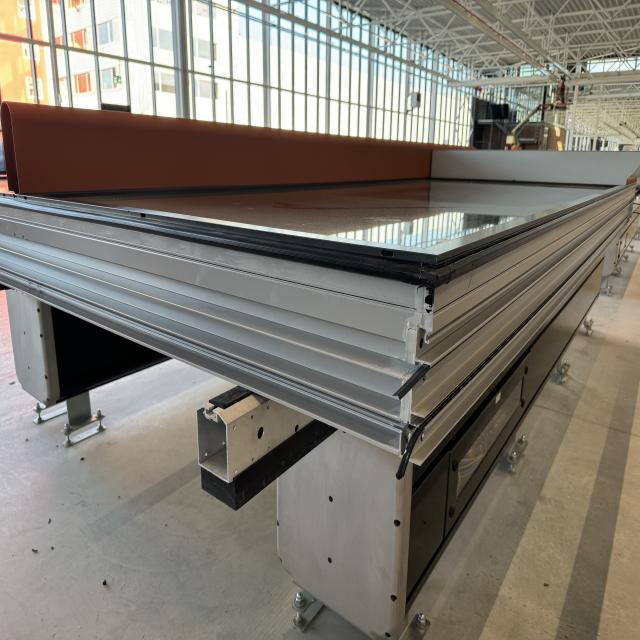ok: (0, 93, 640, 466)
